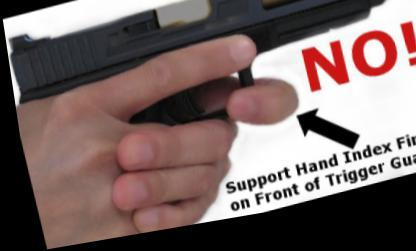pistol: (0, 0, 415, 182)
